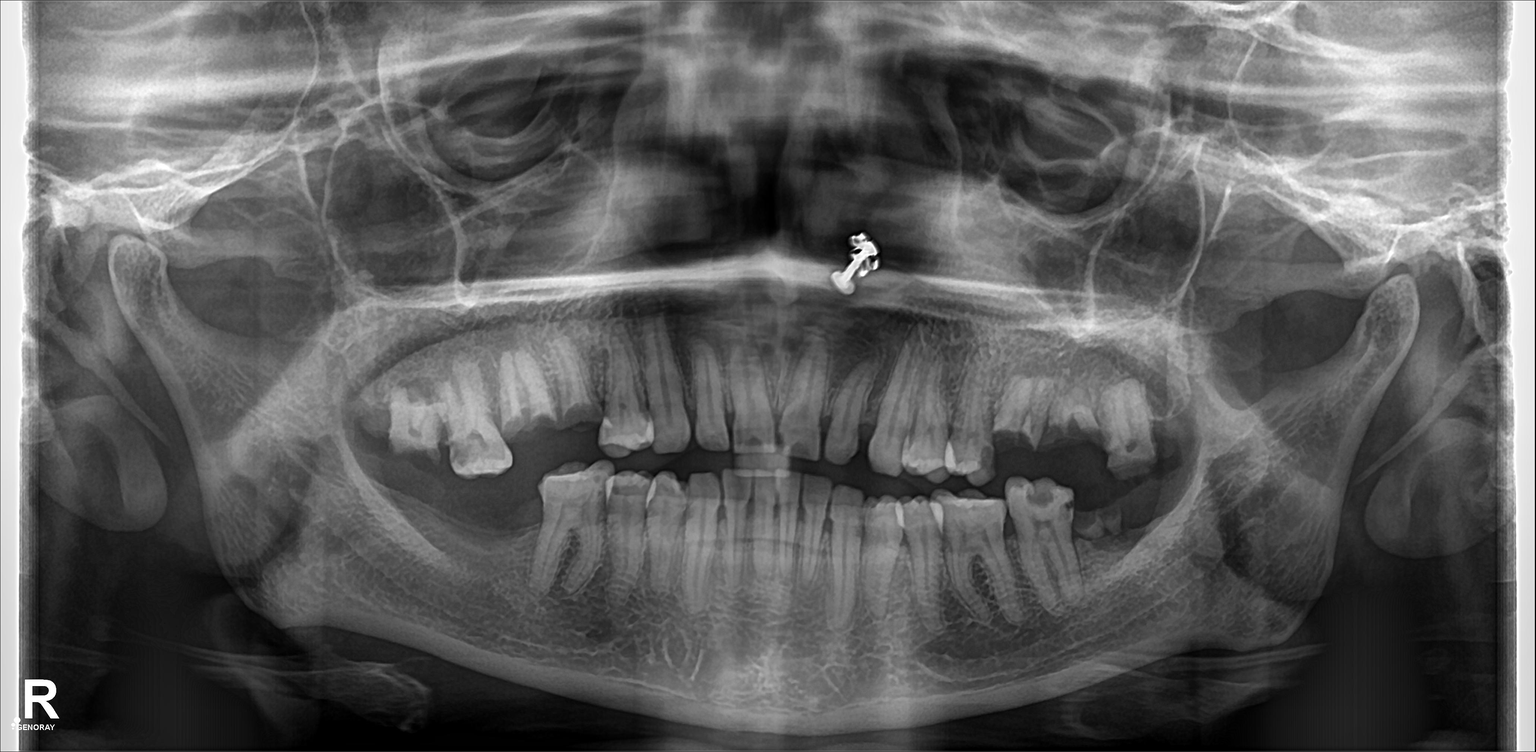Dental Caries: (389, 411, 423, 447), (430, 419, 472, 448), (1015, 482, 1058, 509), (1129, 437, 1147, 454)
Missing Tooth: (374, 467, 417, 569), (501, 480, 539, 588), (1132, 480, 1181, 560), (425, 486, 459, 579), (464, 488, 490, 572)
Retained Root: (998, 350, 1049, 463), (1058, 363, 1095, 460), (1084, 497, 1125, 567)
